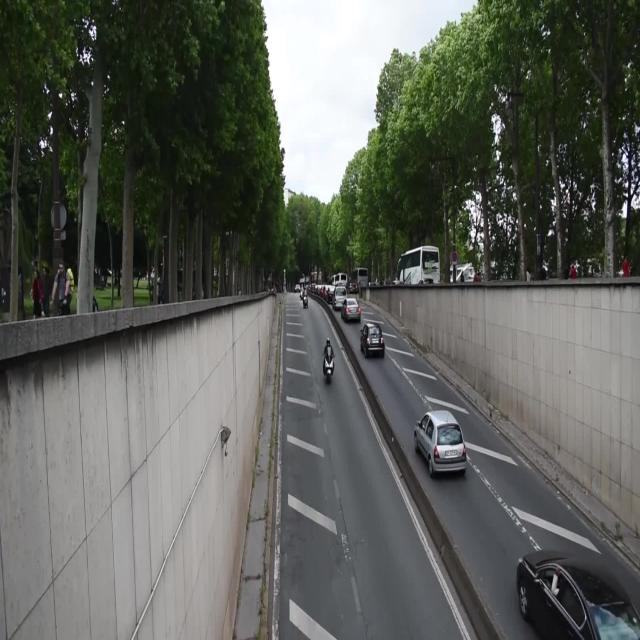Bus: (394, 243, 444, 291), (351, 265, 369, 286)
Car: (508, 527, 640, 640), (410, 401, 473, 481), (360, 317, 390, 366), (341, 289, 363, 325), (329, 283, 347, 313)
Motorcycle: (317, 333, 338, 392), (299, 282, 312, 317)
